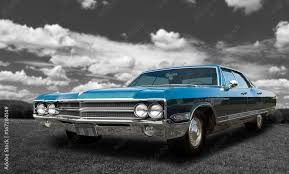car: (31, 67, 276, 152)
